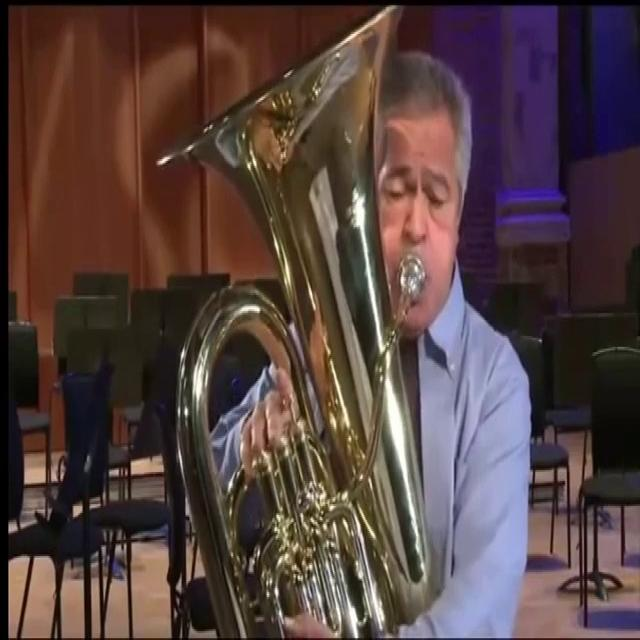Clarinet: (143, 0, 448, 638)
